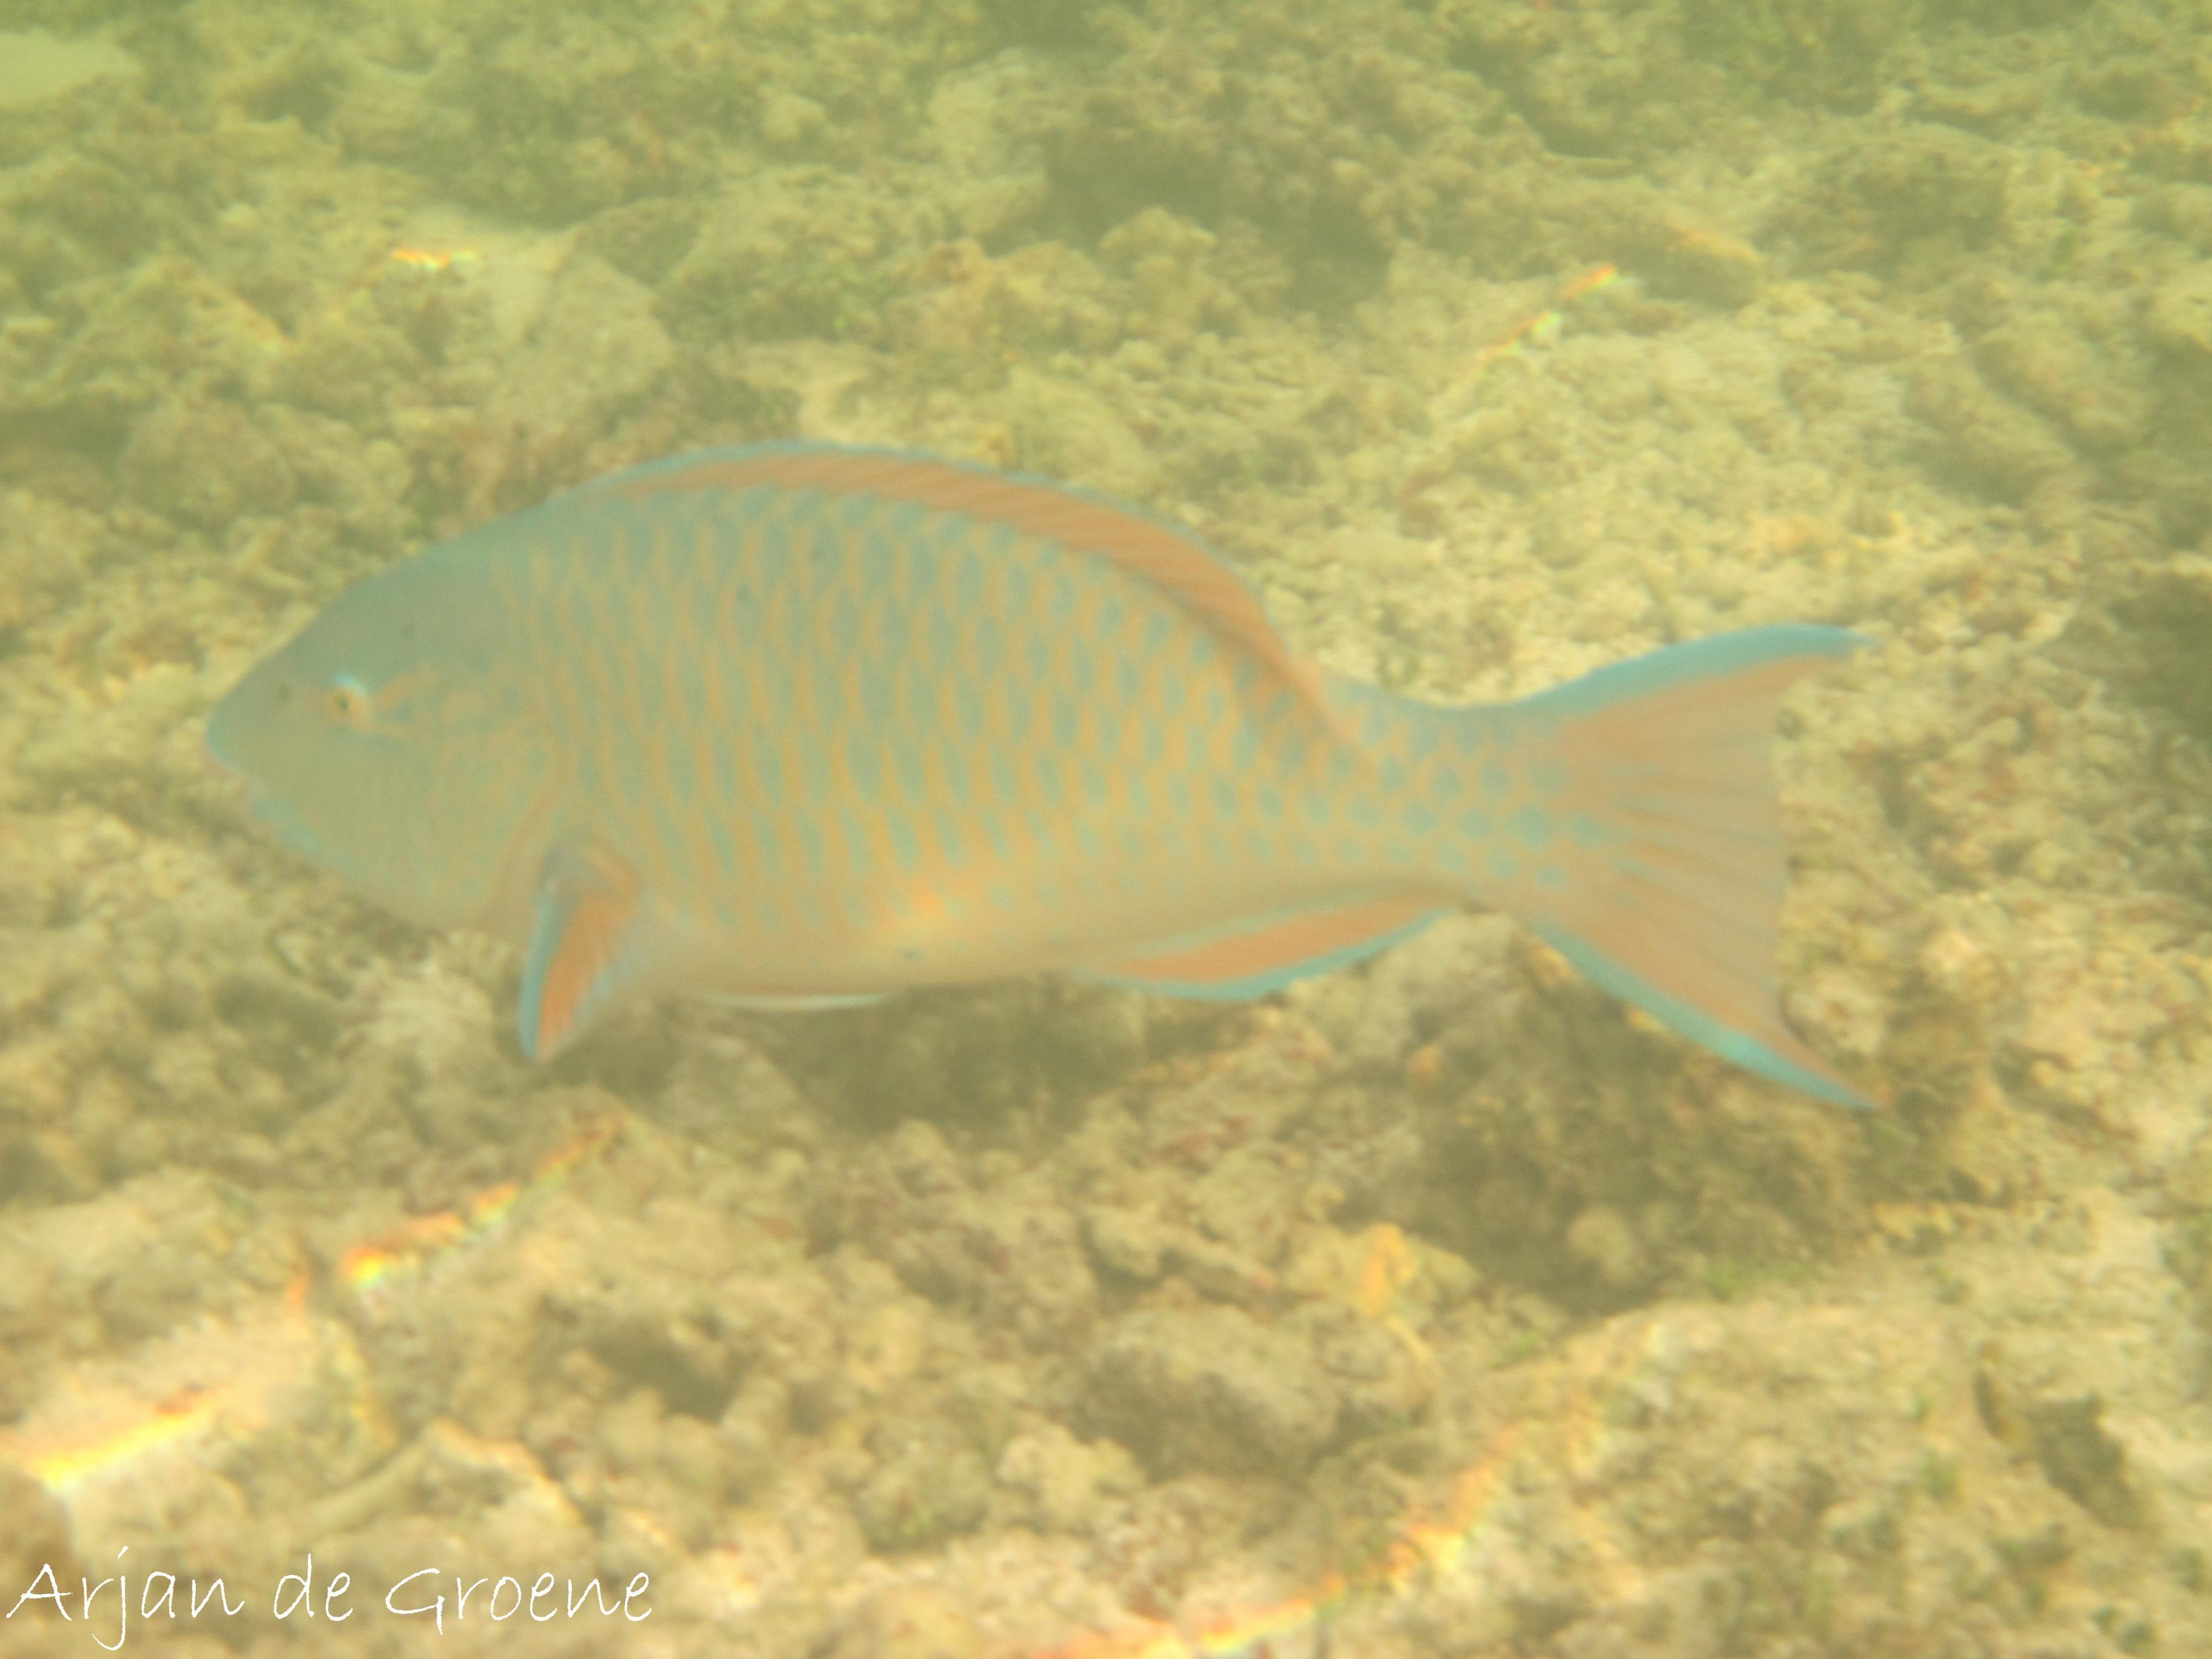Scarus ghobban: (54, 389, 2001, 1300)
